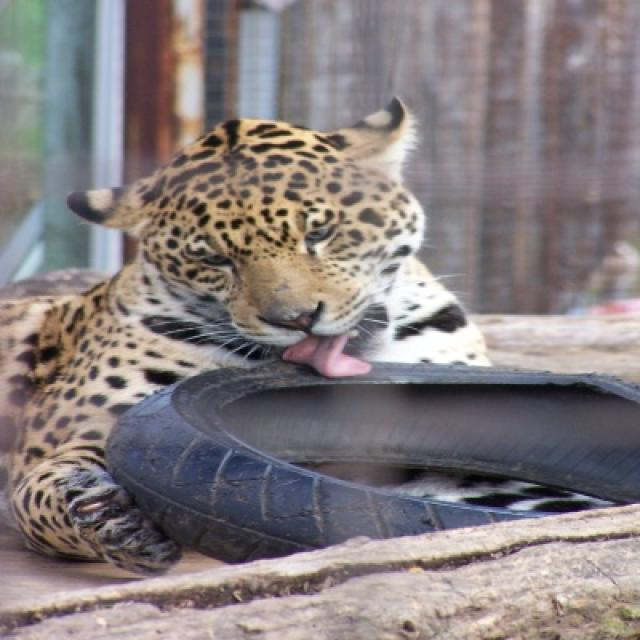Jaguar: (2, 88, 507, 590)
